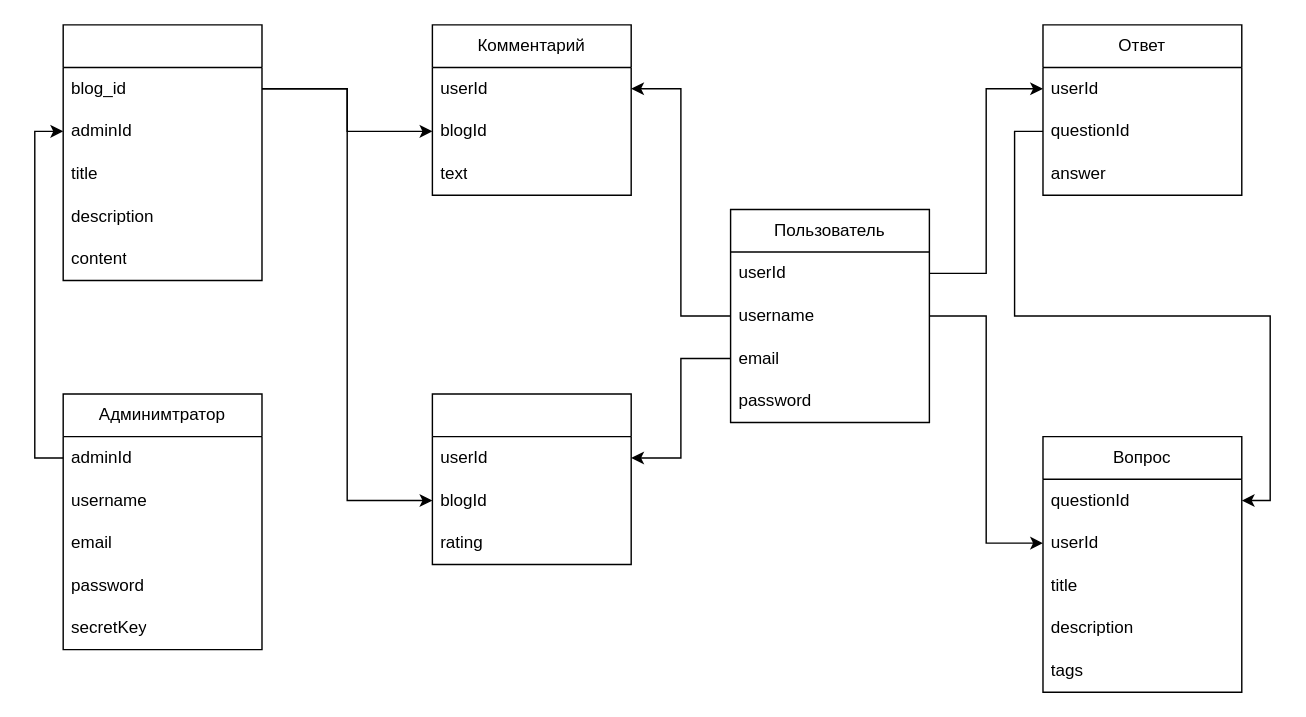
The diagram is 1306 pixels wide and 717 high, and some of its shapes have lost their labels. The box of each missing label's shape, as (x1, y1, x2, y2) in pixels:
Блог: (62, 23, 262, 280)
Оценка: (431, 393, 631, 564)
